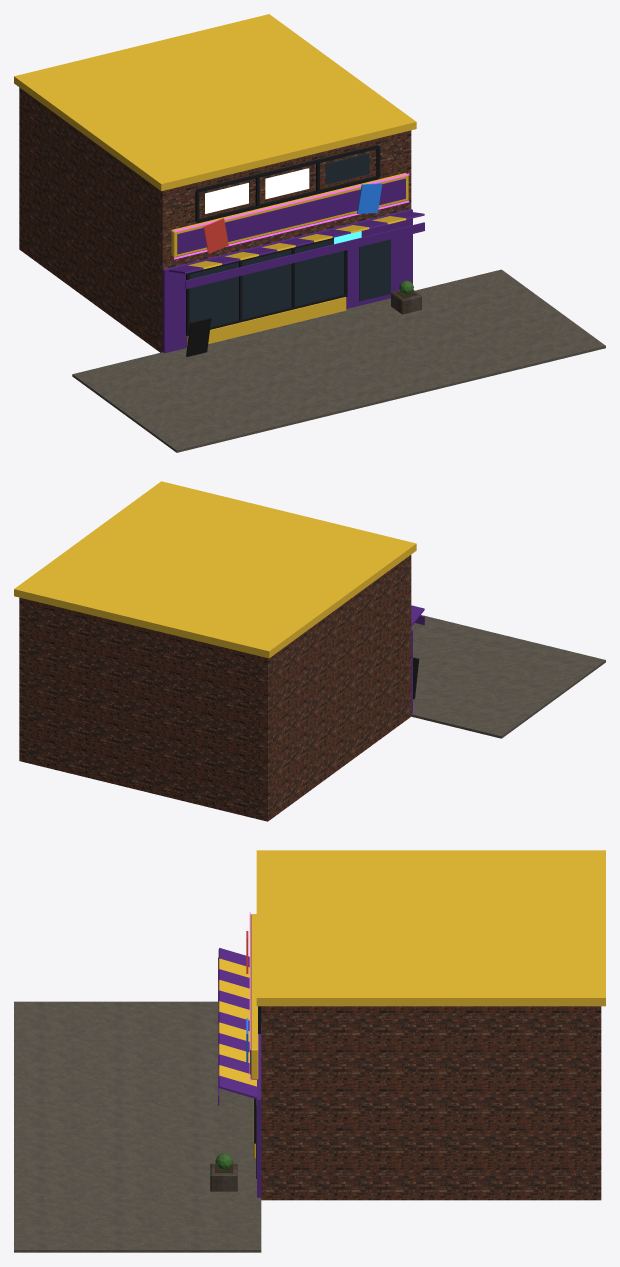
File: OT_CardShop_A.glb
3 views of the same model, one above another, from view 1: azimuth 30°, elevation 25°; view 2: azimuth 150°, elevation 25°; view 3: azimuth 270°, elevation 25° (orthographic). The views are drawn at different scales.
Visible parts, largest first — view 1: OT_CardShop_A_ShopYellow__f2c230, OT_CardShop_A_Pavement, OT_CardShop_A_Brick, OT_CardShop_A_Glass__22303a, OT_CardShop_A_ShopPurple__5b2a8a, OT_CardShop_A_SignFace__5b2a8a, OT_CardShop_A_Frame__18191c, OT_CardShop_A_InteriorWarm__ffdca8, OT_CardShop_A_NeonPink__ff3fb4, OT_CardShop_A_Aboard__1a1a1a, OT_CardShop_A_CardB__2f8cff, OT_CardShop_A_CardA__e2483a; view 2: OT_CardShop_A_Brick, OT_CardShop_A_ShopYellow__f2c230, OT_CardShop_A_Pavement; view 3: OT_CardShop_A_Brick, OT_CardShop_A_ShopYellow__f2c230, OT_CardShop_A_Pavement, OT_CardShop_A_ShopPurple__5b2a8a, OT_CardShop_A_PlanterStone.
Boxes of the visible parts, left/top/right/bottom form: OT_CardShop_A_ShopYellow__f2c230: left=14, top=14, right=416, bottom=347; OT_CardShop_A_Pavement: left=72, top=269, right=605, bottom=452; OT_CardShop_A_Brick: left=19, top=87, right=411, bottom=352; OT_CardShop_A_Glass__22303a: left=189, top=153, right=390, bottom=326; OT_CardShop_A_ShopPurple__5b2a8a: left=162, top=209, right=424, bottom=353; OT_CardShop_A_SignFace__5b2a8a: left=177, top=178, right=405, bottom=254; OT_CardShop_A_Frame__18191c: left=186, top=145, right=380, bottom=335; OT_CardShop_A_InteriorWarm__ffdca8: left=205, top=168, right=309, bottom=213; OT_CardShop_A_NeonPink__ff3fb4: left=174, top=173, right=409, bottom=259; OT_CardShop_A_Aboard__1a1a1a: left=186, top=317, right=211, bottom=356; OT_CardShop_A_CardB__2f8cff: left=357, top=183, right=382, bottom=213; OT_CardShop_A_CardA__e2483a: left=203, top=218, right=228, bottom=253; OT_CardShop_A_Brick: left=19, top=555, right=411, bottom=821; OT_CardShop_A_ShopYellow__f2c230: left=14, top=481, right=416, bottom=658; OT_CardShop_A_Pavement: left=411, top=615, right=605, bottom=738; OT_CardShop_A_Brick: left=261, top=1006, right=601, bottom=1200; OT_CardShop_A_ShopYellow__f2c230: left=218, top=850, right=605, bottom=1158; OT_CardShop_A_Pavement: left=14, top=1001, right=261, bottom=1252; OT_CardShop_A_ShopPurple__5b2a8a: left=218, top=948, right=261, bottom=1197; OT_CardShop_A_PlanterStone: left=210, top=1163, right=237, bottom=1191.
Bounding box in the file's own units: 19 × 7.3 × 19.15.
20 materials, 3 textured.
